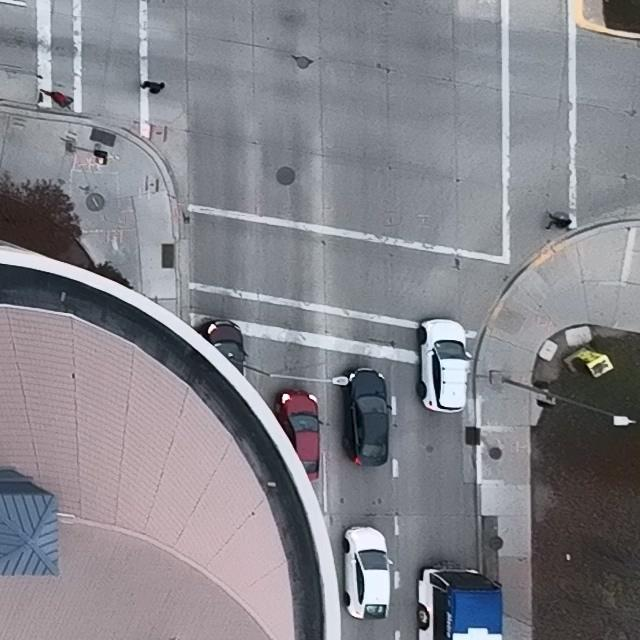car: (415, 564, 502, 640), (416, 319, 472, 414), (343, 367, 393, 467), (343, 525, 394, 621), (275, 388, 324, 479), (202, 319, 249, 379)
